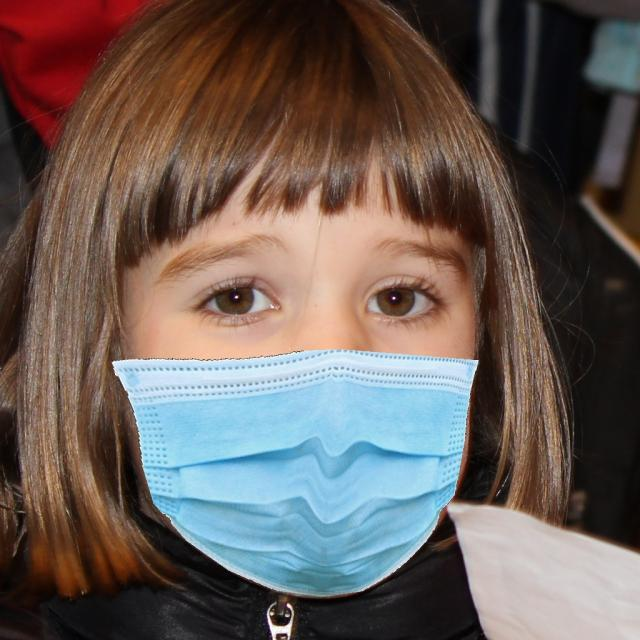1_mascarilla: (107, 345, 478, 599)
